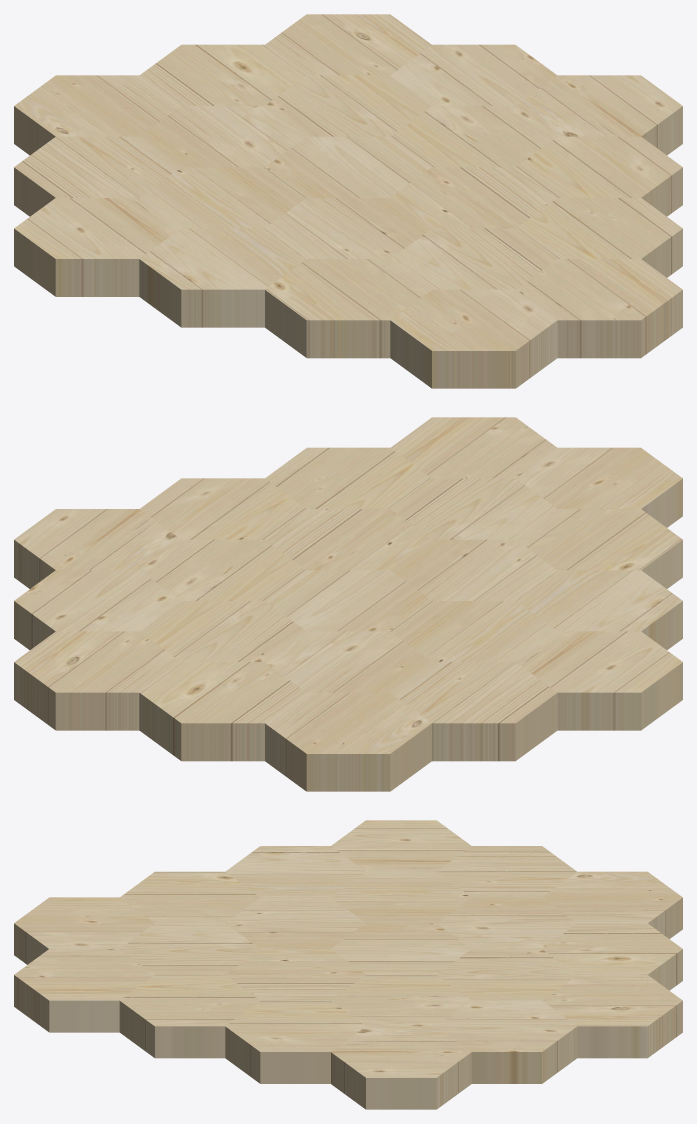
The model's file is first-floor.fbx.
3 views of the same model, one above another, from view 1: azimuth 30°, elevation 25°; view 2: azimuth 150°, elevation 25°; view 3: azimuth 270°, elevation 25° (orthographic). The views are drawn at different scales.
Parts seen in each view (by area): view 1: Circle.001; view 2: Circle.001; view 3: Circle.001.
Boxes of the visible parts, x1,y1,x2,y2 form: Circle.001: (14,14,682,388); Circle.001: (14,417,682,791); Circle.001: (14,820,682,1109).
Bounding box in the file's own units: 866 × 50 × 950.
Materials: 1 (1 with a texture image).
